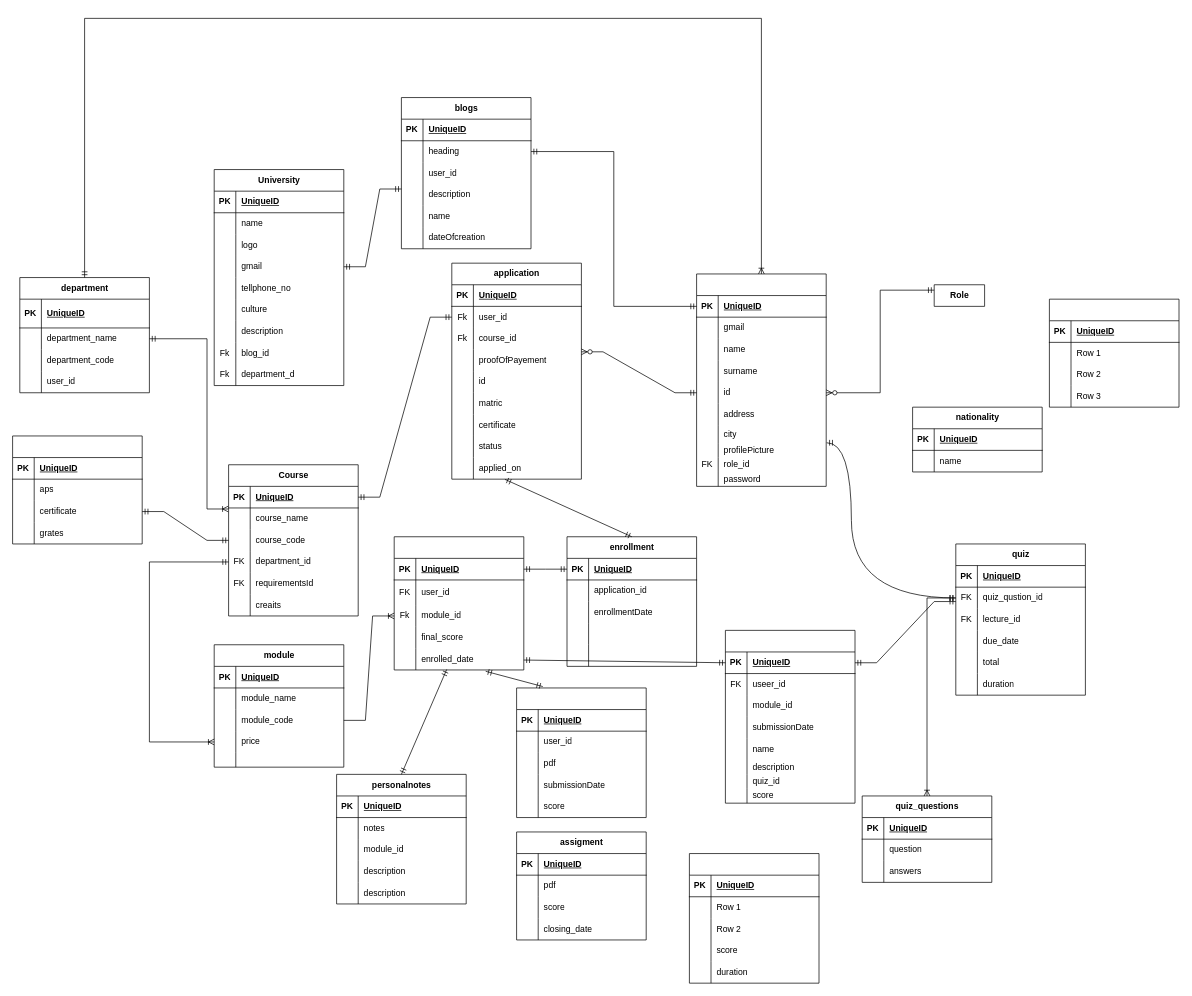
The diagram is 1192 pixels wide and 996 high, and some of its shapes have lost their labels. The shapes that lost their labels are listed below. From the top down, each one's box as (x1, y1, x2, y2) in pixels, then its label:
(1049, 298, 1179, 407): Table
(696, 273, 826, 486): User
(12, 435, 142, 544): requirements
(393, 536, 524, 670): module_enrollement
(725, 630, 855, 803): student_quiz
(516, 687, 646, 818): student_assignment
(689, 853, 819, 983): practize_quiz
